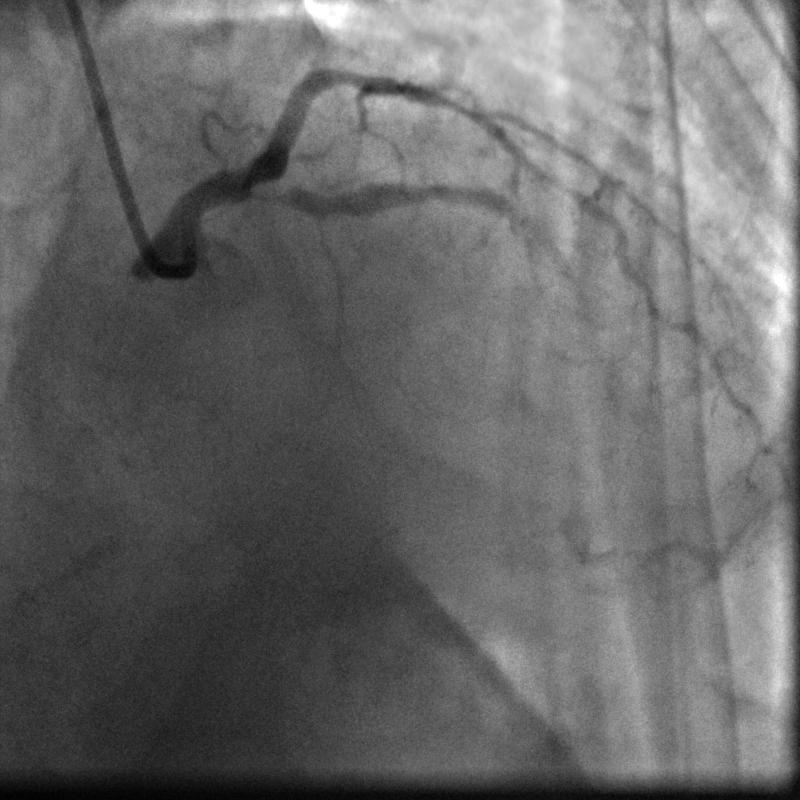Stenosis: (252, 175, 299, 200)
